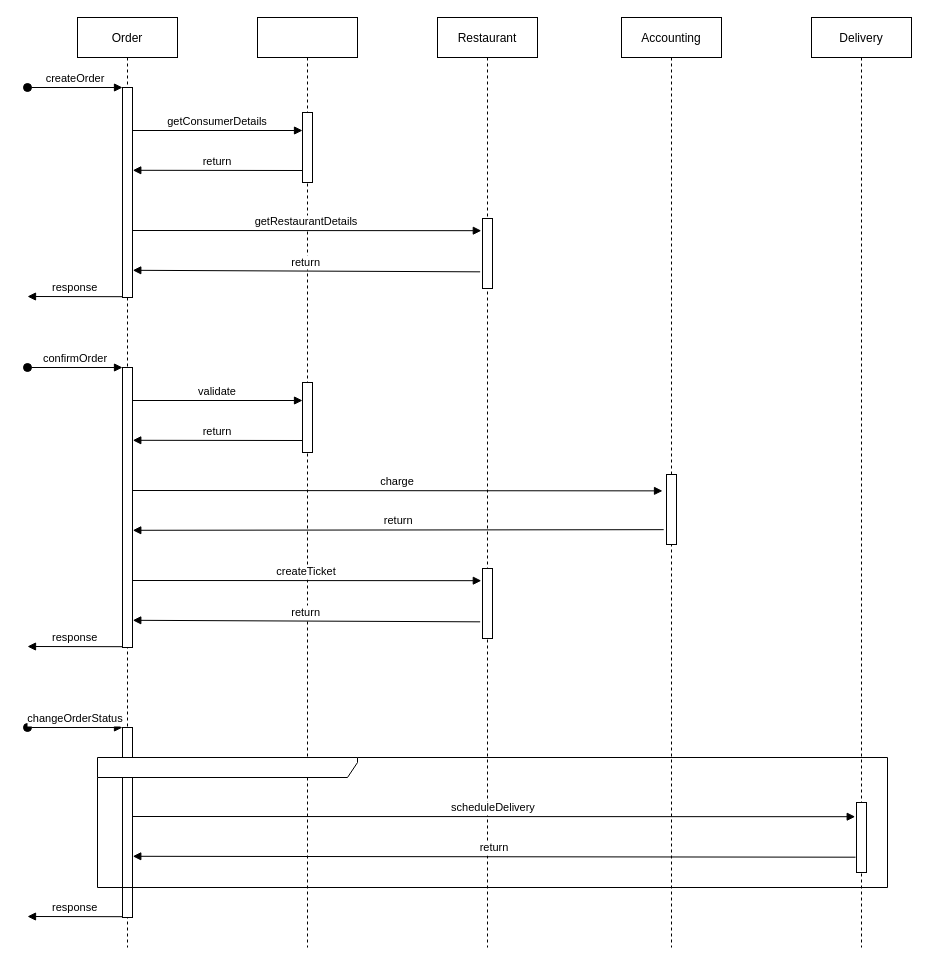
Image size: 929x965. Some labels were removed from this diagram. Here are the shapes that lost their labels. From the top down, the centre of each, then its label:
point (307, 482): Consumer
point (492, 822): if newStatus == "READY_FOR_PICKUP"
